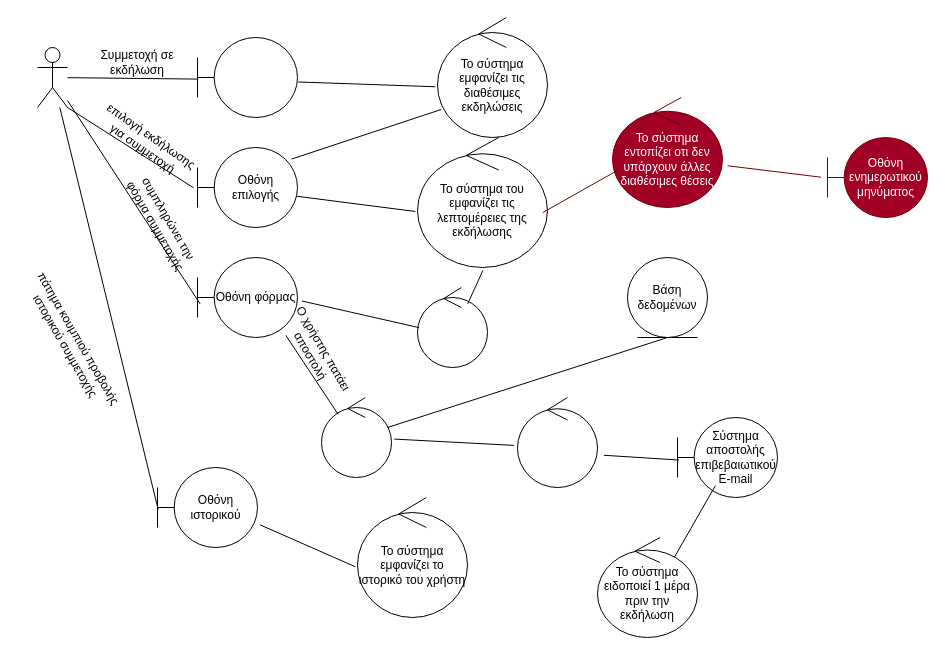
This 945x655 diagram has some shape labels left out. Here are the shapes that lost their labels. From the top down, the centre of each, then its label:
At (x=52, y=77): "Χρήστης".
At (x=247, y=77): "Αρχική Οθόνη".
At (x=452, y=327): "Φορτώνει την φόρμα".
At (x=356, y=437): "Το σύστημα αποθηκεύει την φόρμα".
At (x=557, y=442): "Το σύστημα ειδοποιεί τον χρήστη".
